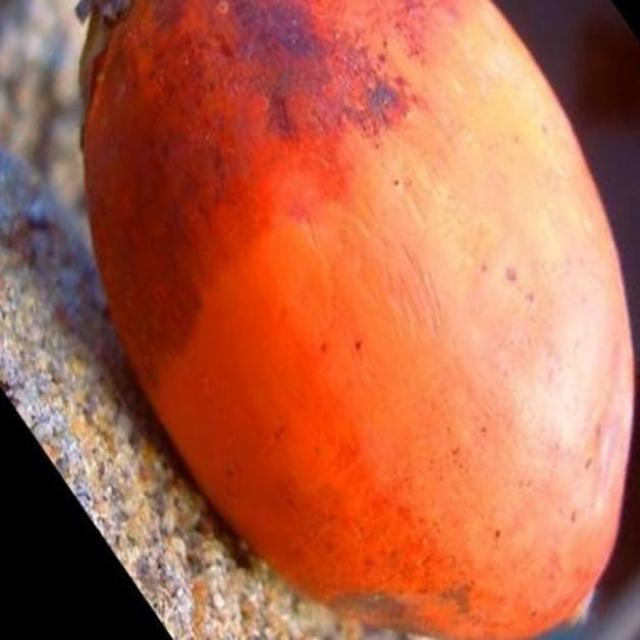good: (73, 0, 639, 639)
